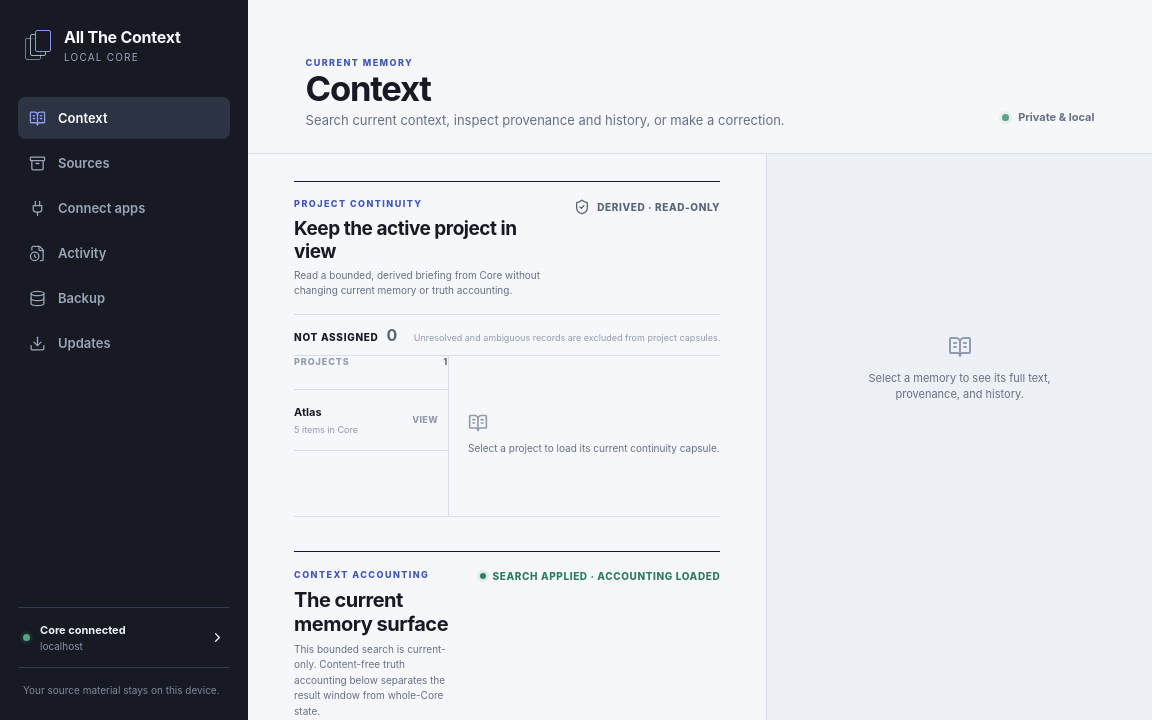
dashboard › shows no-usable-context when a selected project has no human sections
The image size is (1152, 720).
What coordinates should you click on to do the following:
click the button "Atlas 5 items in Core View"
I would click on:
 (371, 420)
Its box is [294,390,448,451].
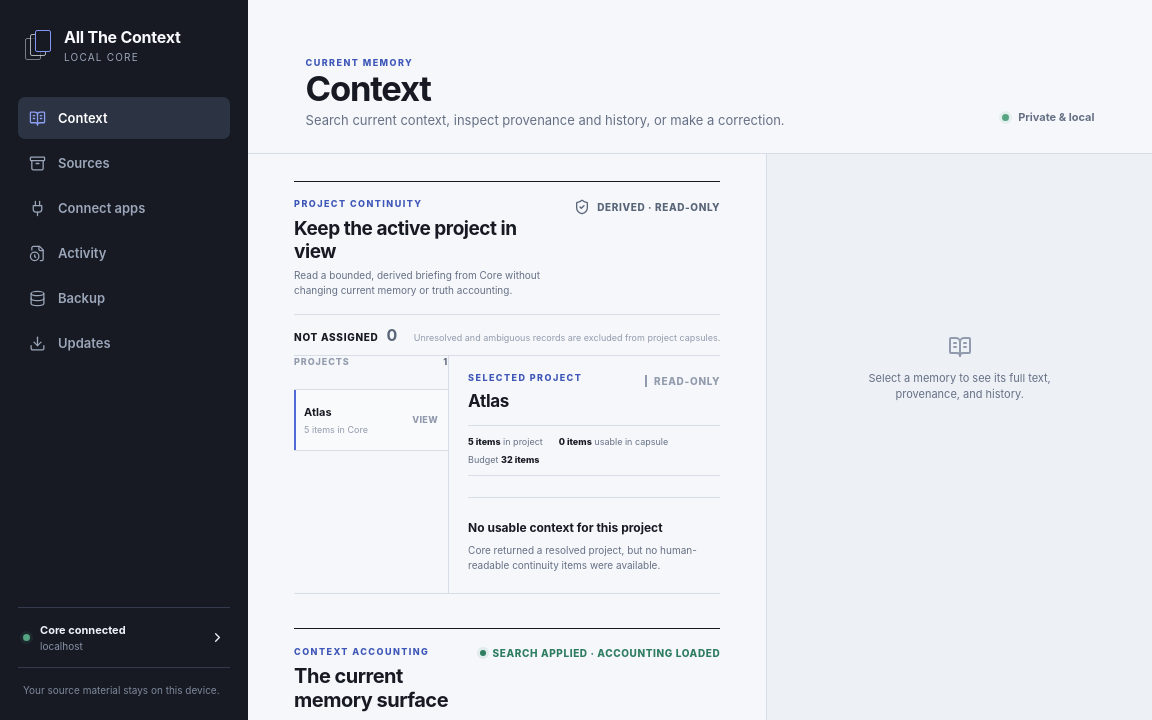
Now the text "No usable context for this project" is shown, box [468,520,663,535]
